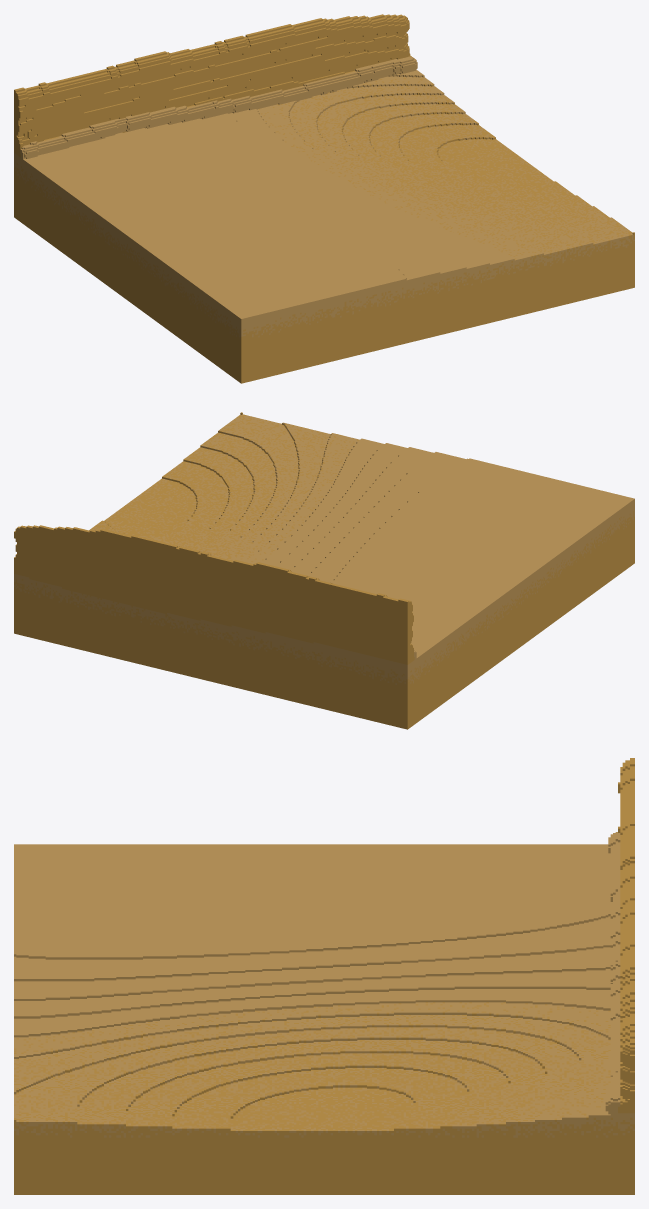
Rendered from Marte-0.obj.
3 views of the same model, one above another, from view 1: azimuth 30°, elevation 25°; view 2: azimuth 150°, elevation 25°; view 3: azimuth 270°, elevation 25° (orthographic). The views are drawn at different scales.
Bounding box in the file's own units: 25.5 × 8 × 25.5.
1 material, 1 textured.
